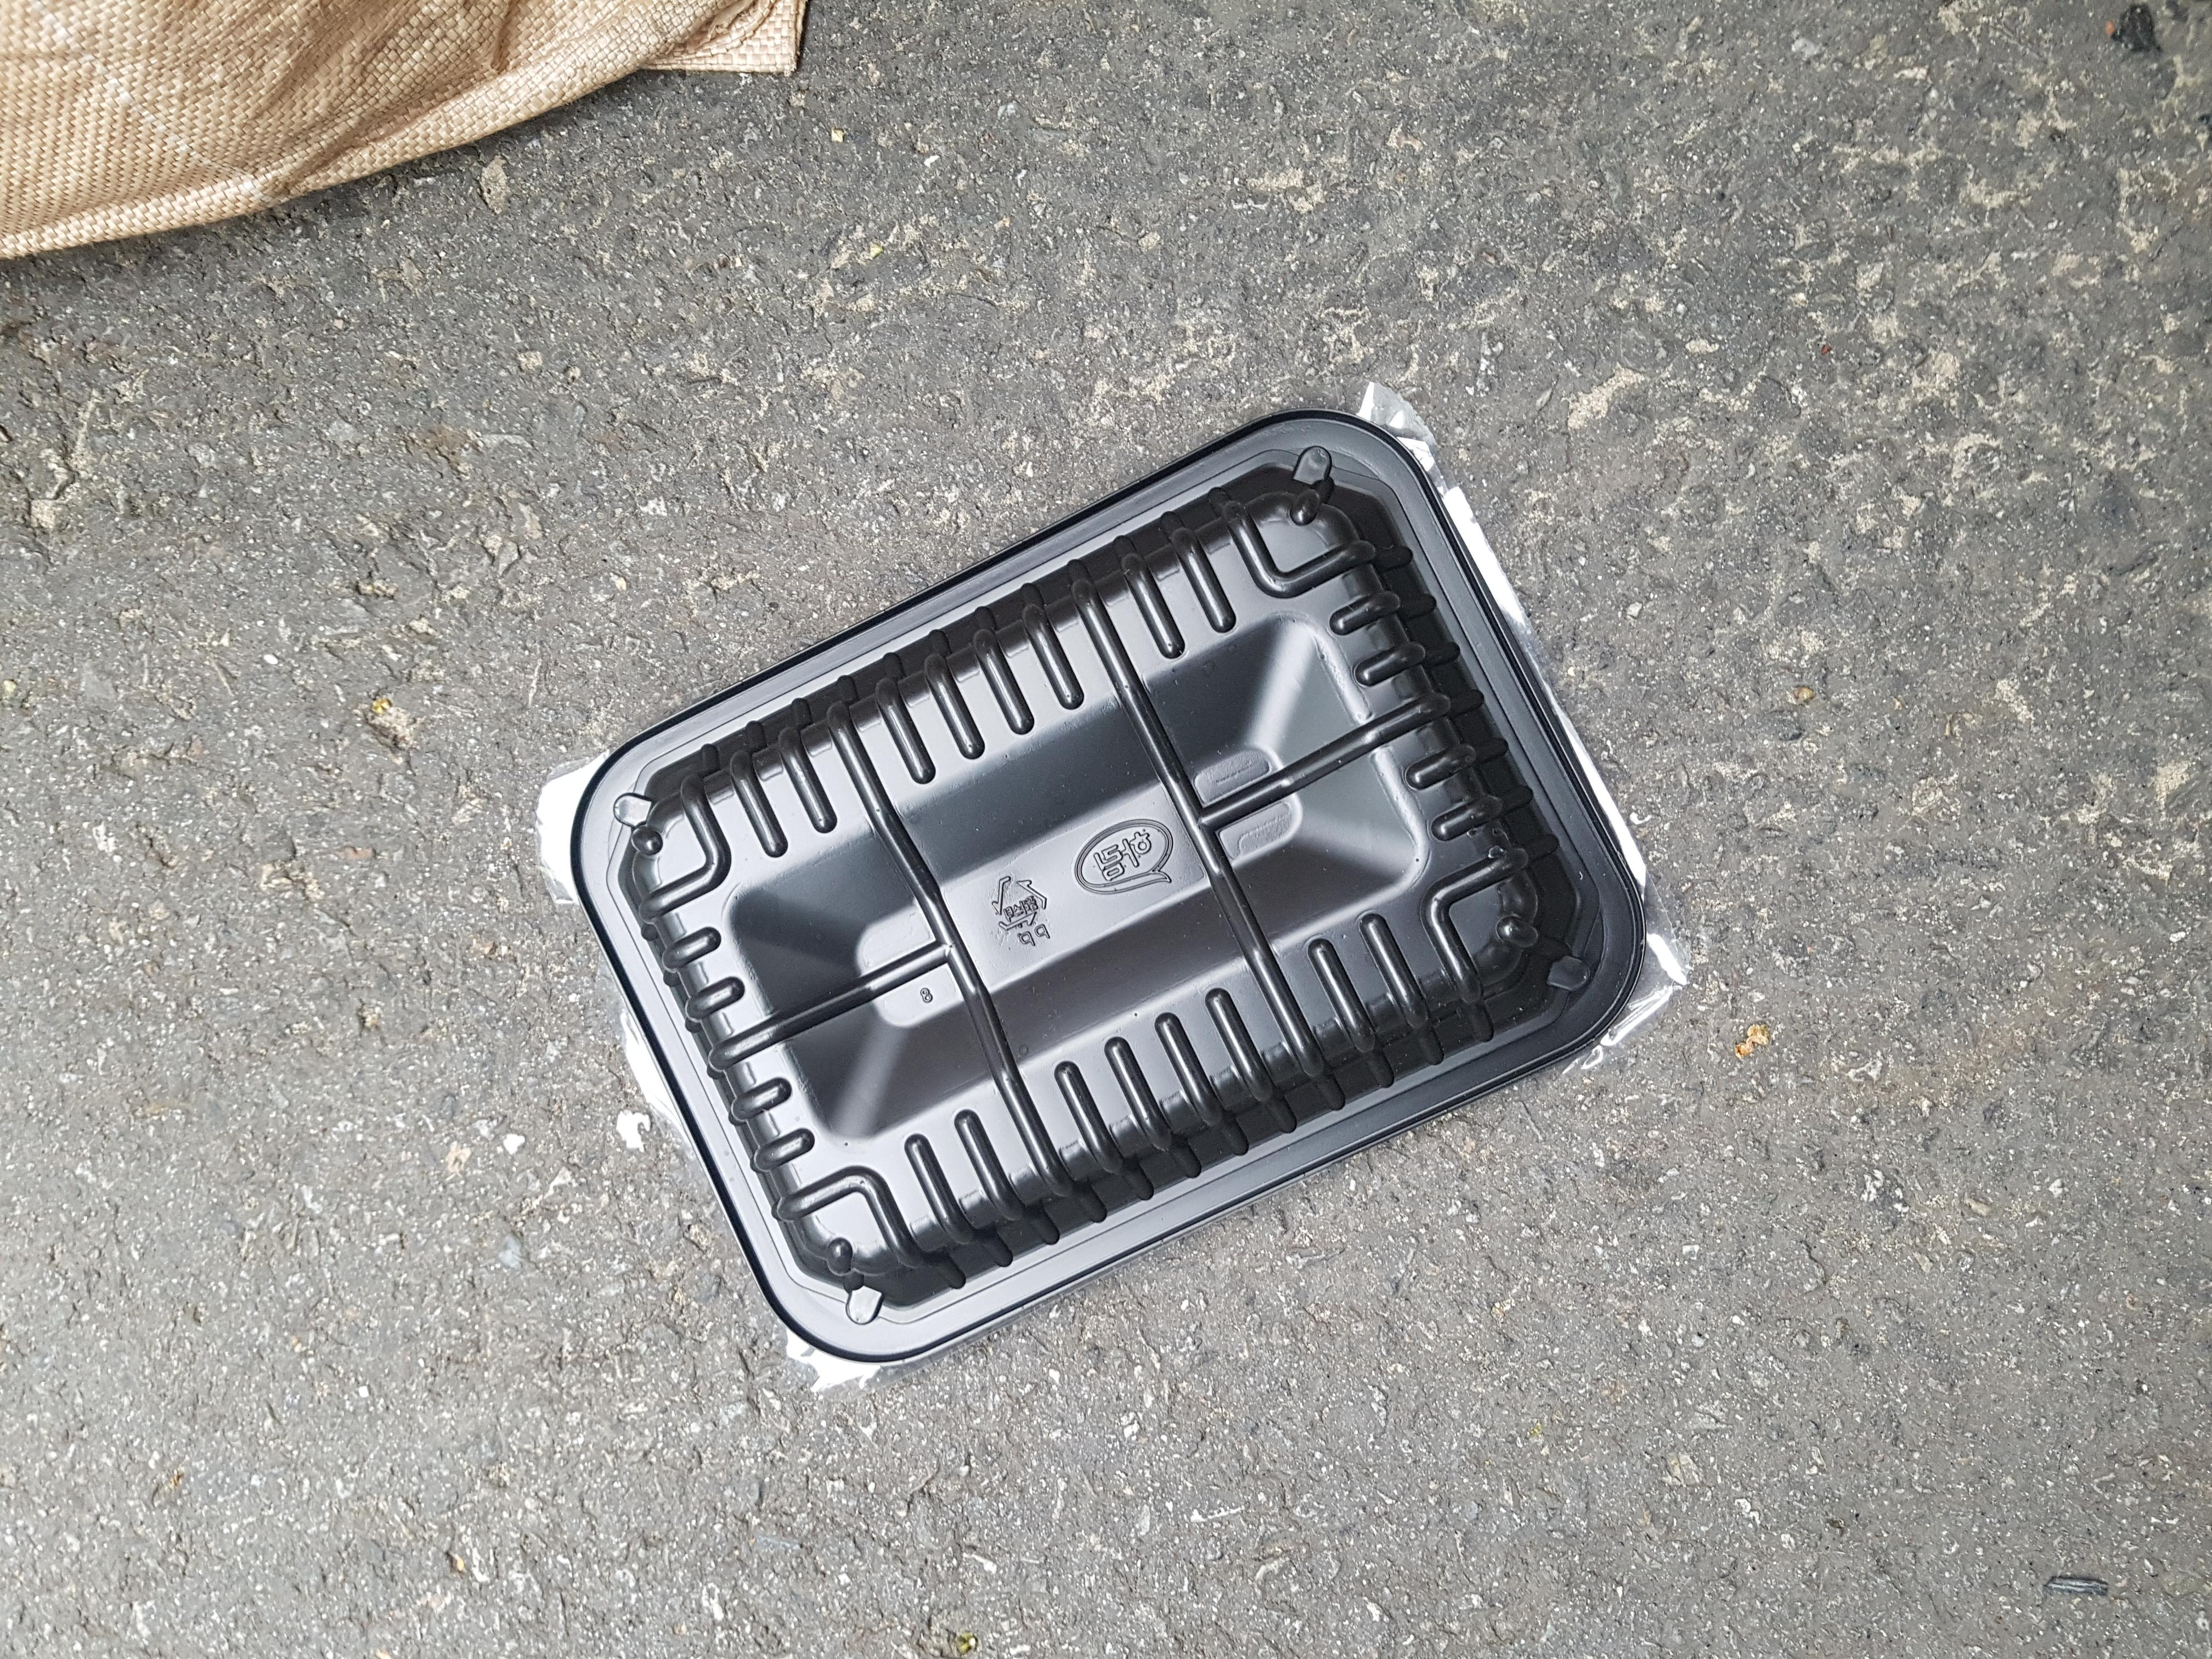bottle: (232, 408, 1766, 1230)
